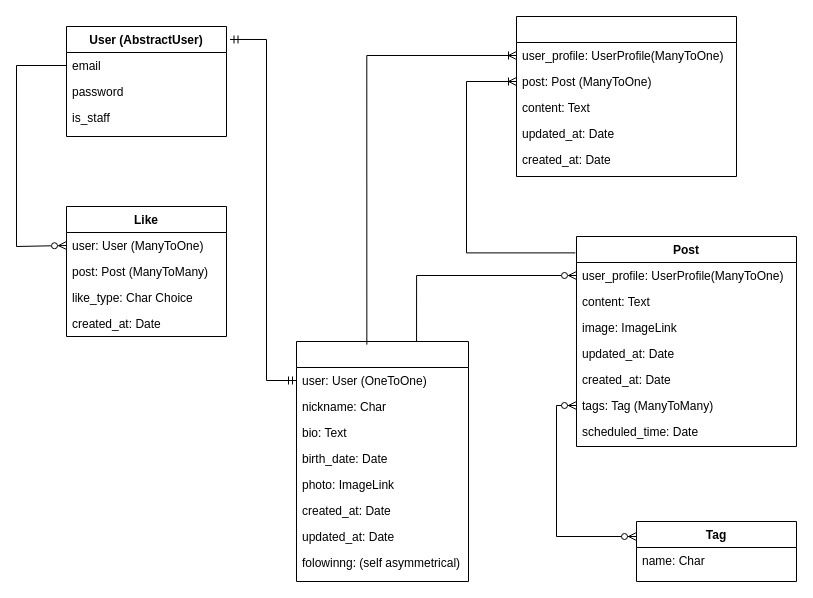
Image size: 813x598. Some labels were removed from this diagram. The box of each missing label's shape, as (x1, y1, x2, y2) in pixels:
Comment: (516, 16, 736, 176)
UserProfile: (296, 340, 468, 582)
